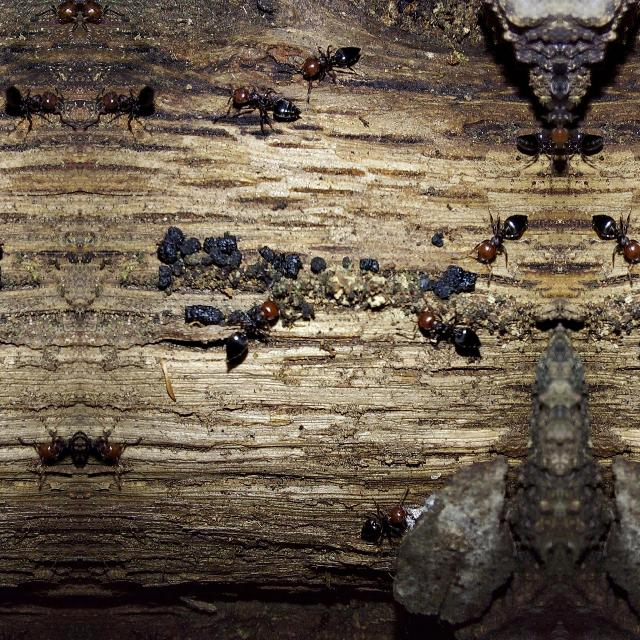Crematogaster: (400, 298, 478, 358), (86, 76, 164, 134), (0, 75, 74, 134), (468, 200, 526, 264), (222, 78, 306, 118), (301, 42, 367, 92), (594, 199, 640, 264), (236, 299, 278, 367), (80, 422, 126, 481), (34, 422, 80, 481), (365, 503, 411, 545), (514, 128, 560, 164), (560, 128, 606, 164), (80, 0, 112, 24), (48, 0, 80, 24)
